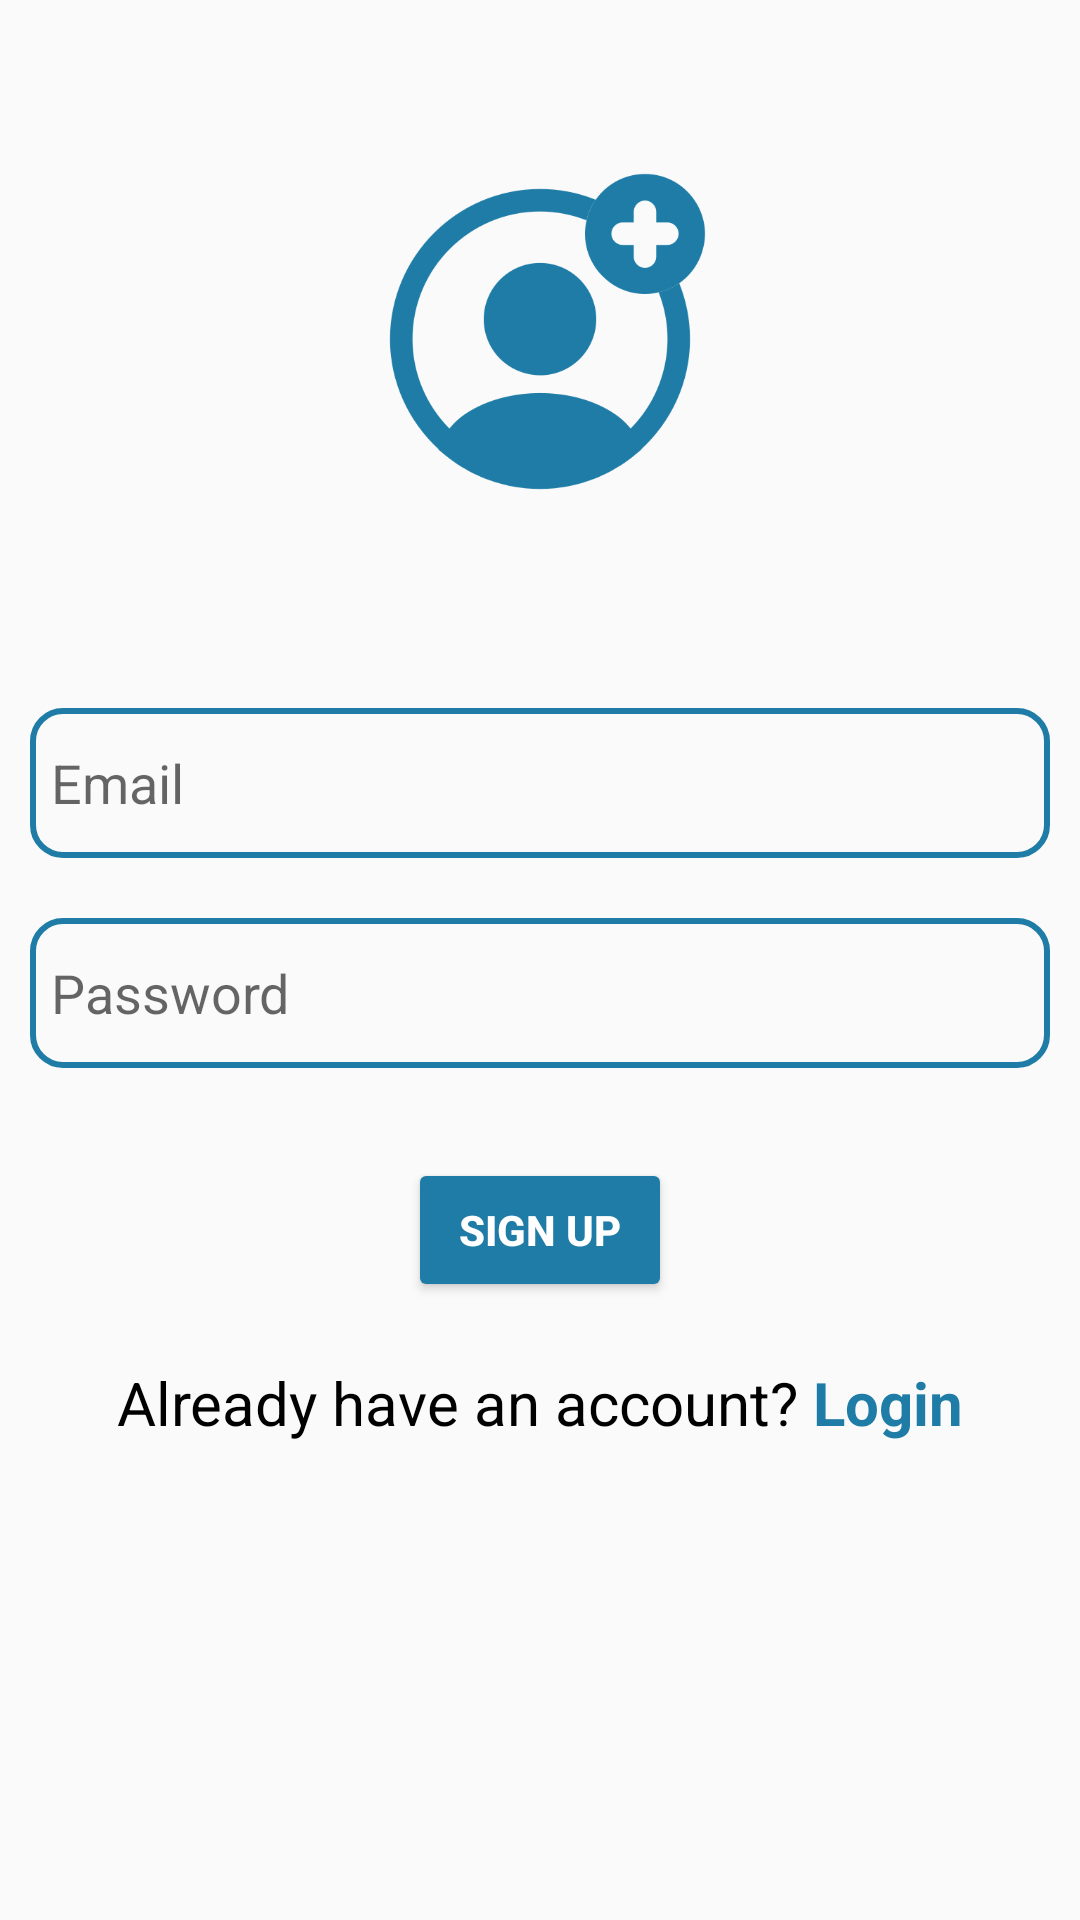

Icons on this 1080 × 1920 Android screen, each with the point to tap as (x,y):
signup: (547,332)
